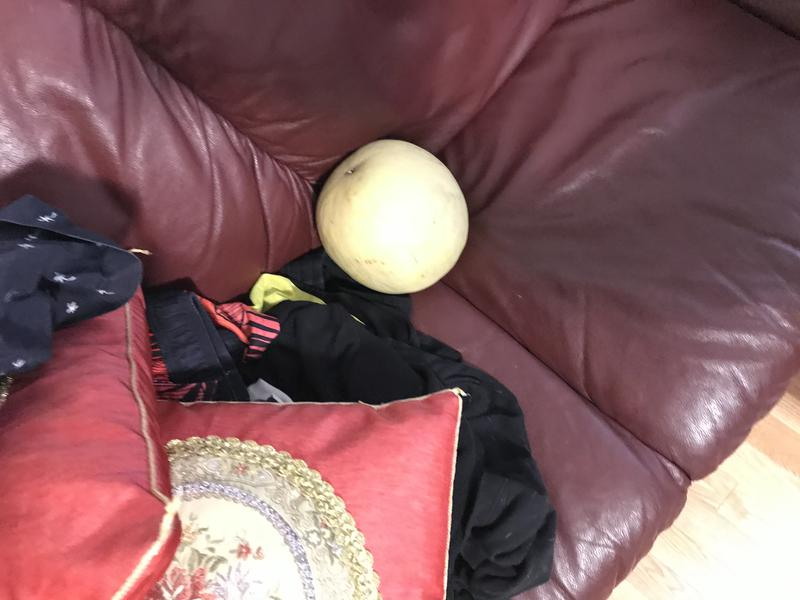honeydew: (308, 132, 480, 305)
